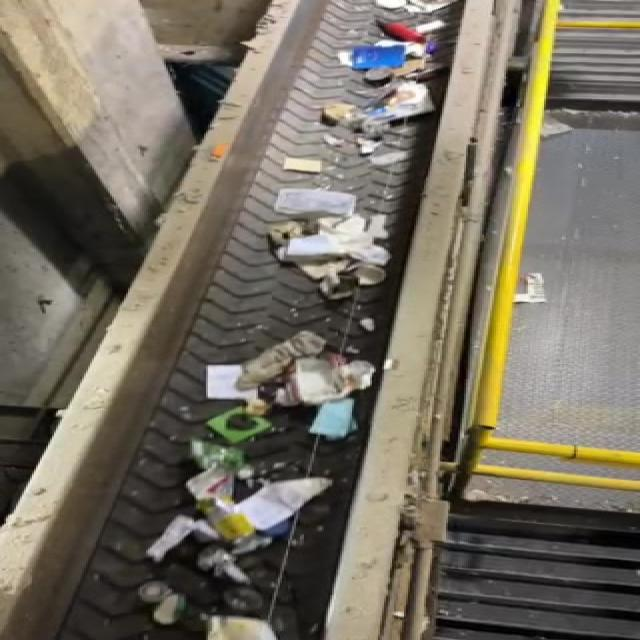metal: (197, 492, 269, 555)
